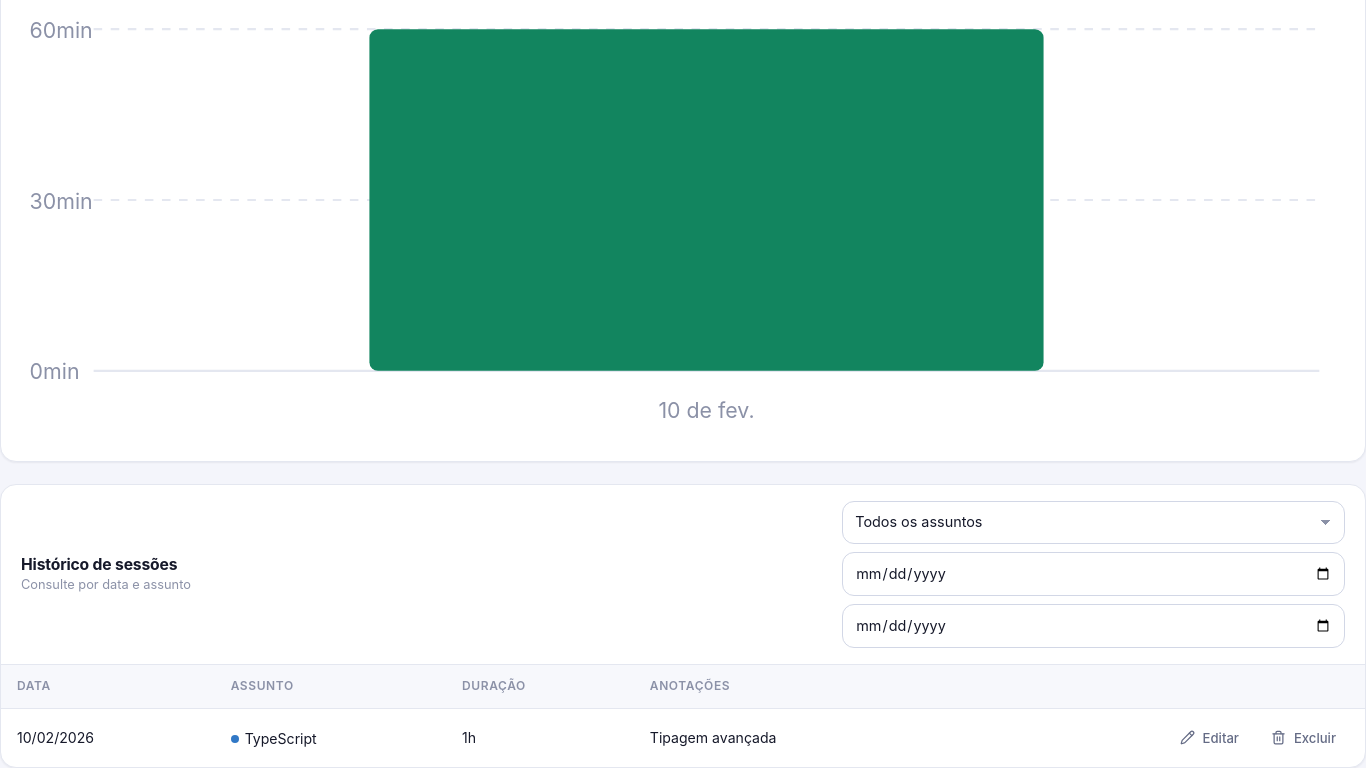
Test: StudiesPage › edita uma sessão de estudo existente
This screenshot has width=1366, height=768.
(page scrolled)
Click the button with aria-label "editar sessão": coordinates (1209, 738) x1=1167 y1=721 x2=1252 y2=755
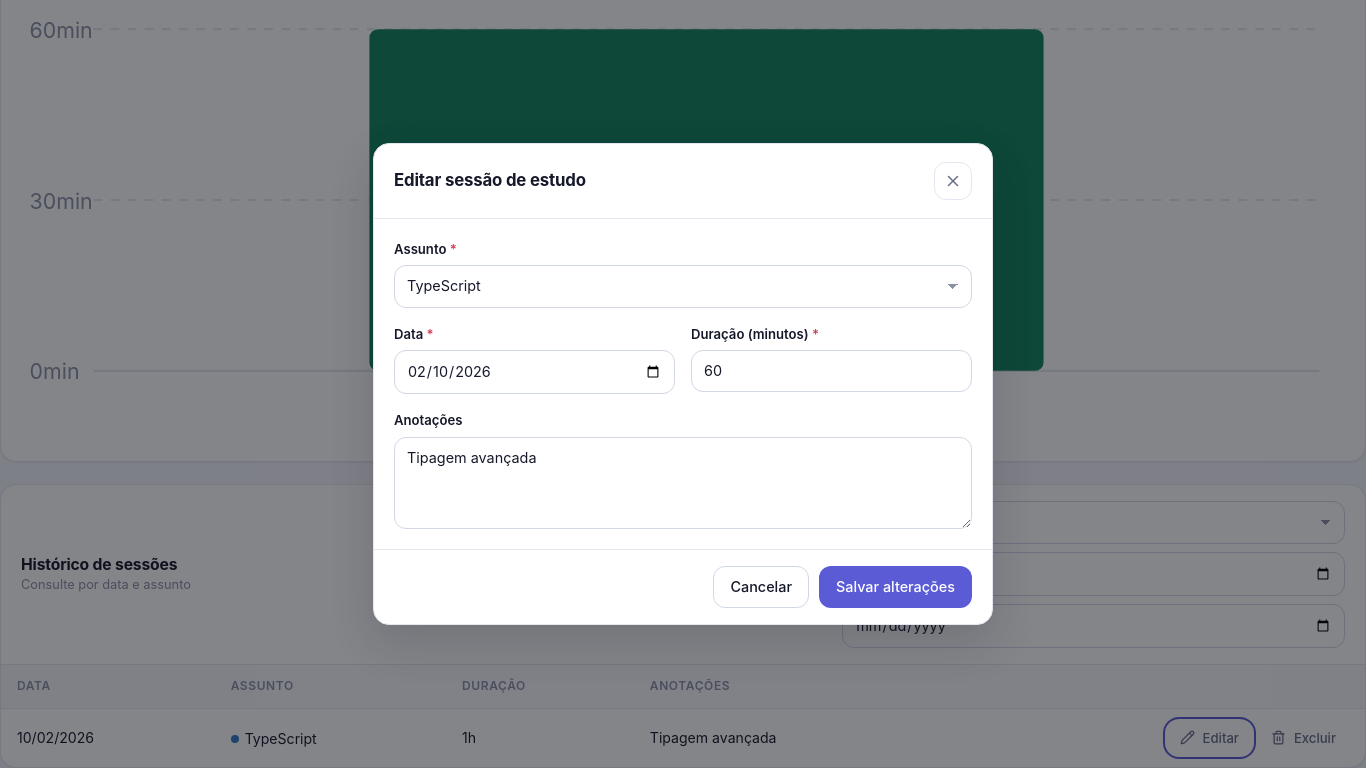
Expected: the number field labelled "Duração (minutos) *" holds "60"
Replace the text in the number field labelled "Duração (minutos) *" with "90": coordinates (832, 371) x1=691 y1=350 x2=972 y2=392
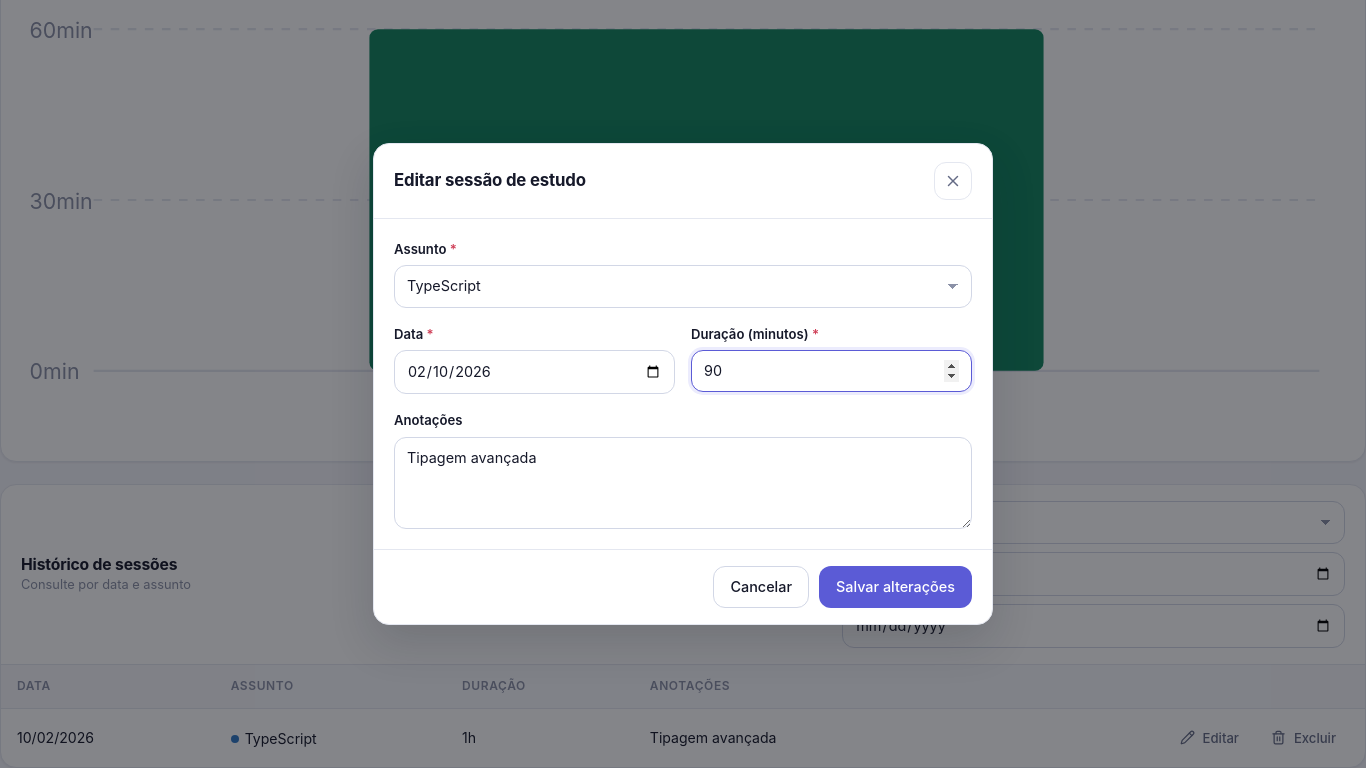
Click the button "Salvar alterações": coordinates (896, 587) x1=819 y1=566 x2=972 y2=608
(page scrolled)
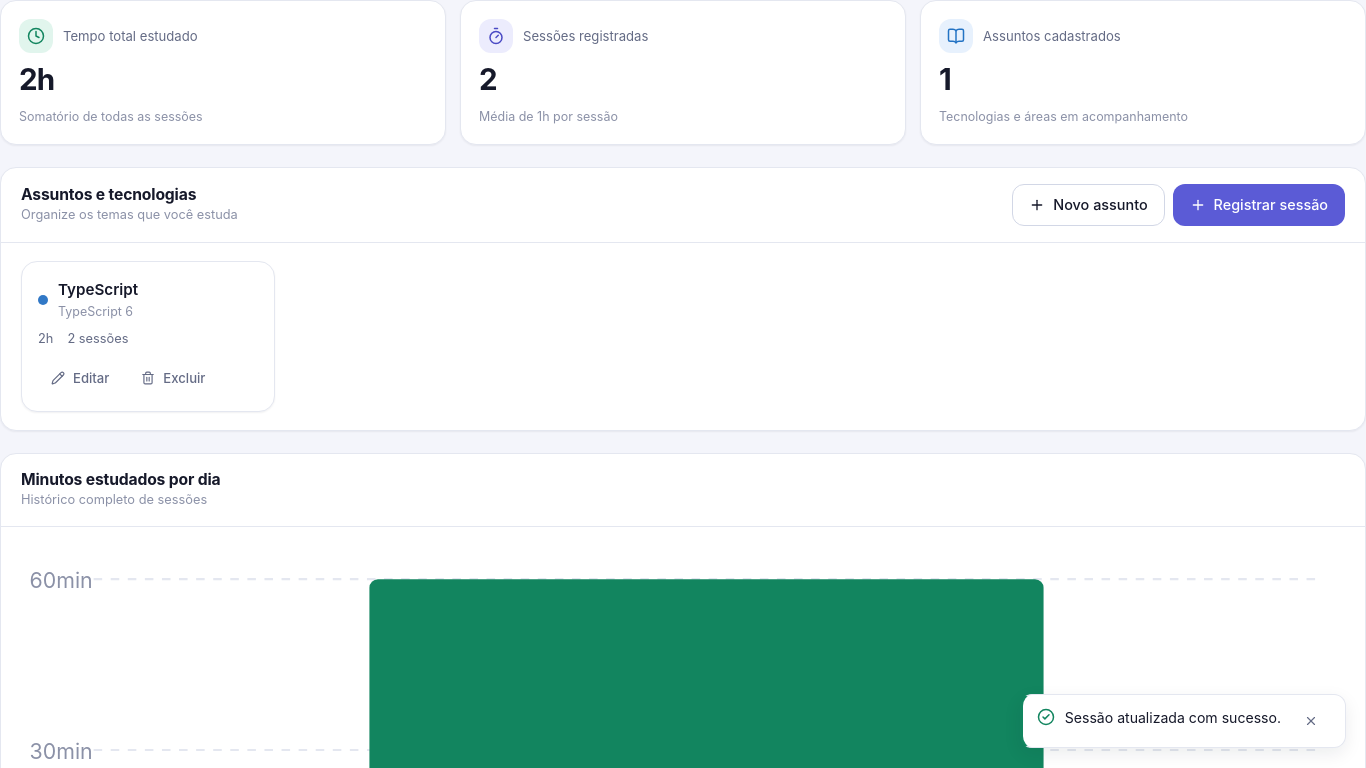
Expected: the text "Sessão atualizada com sucesso." is shown, x1=1065 y1=707 x2=1281 y2=729
